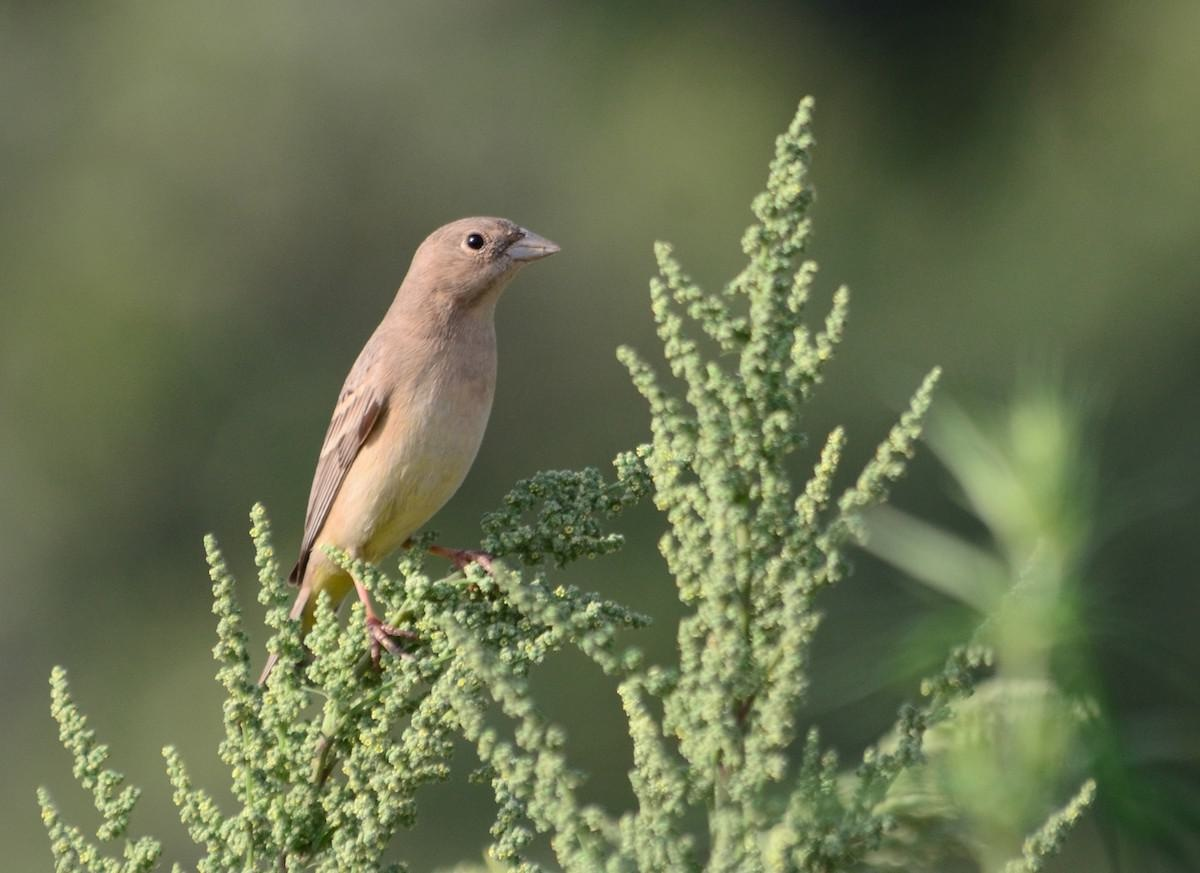rosefinch: (267, 201, 605, 619)
